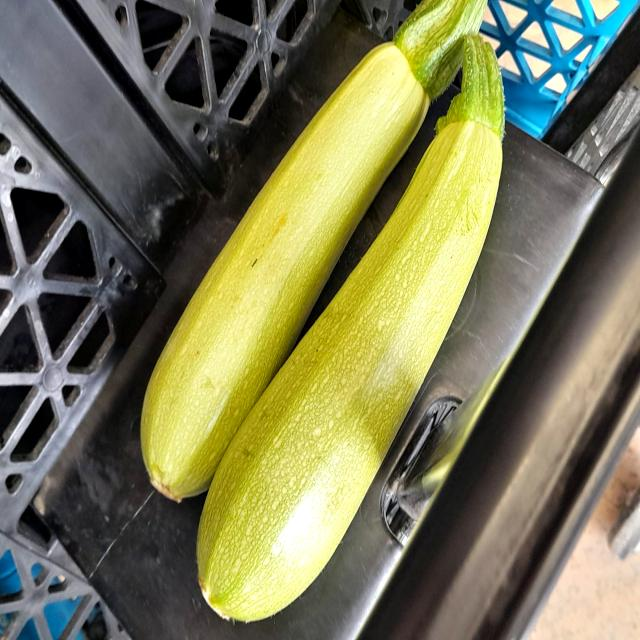zucchini: (193, 30, 516, 640), (142, 0, 495, 508)
